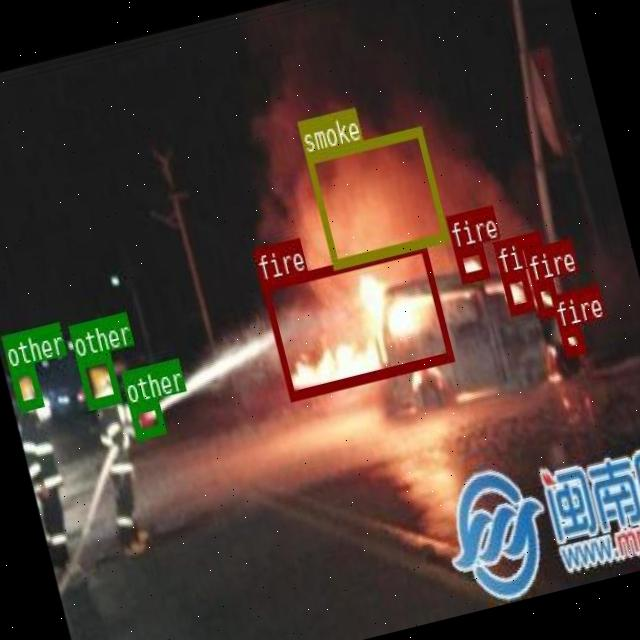fire: (259, 241, 452, 400), (499, 268, 534, 314), (452, 242, 488, 281), (531, 277, 560, 316), (558, 322, 585, 354)
smoke: (304, 125, 448, 268)
